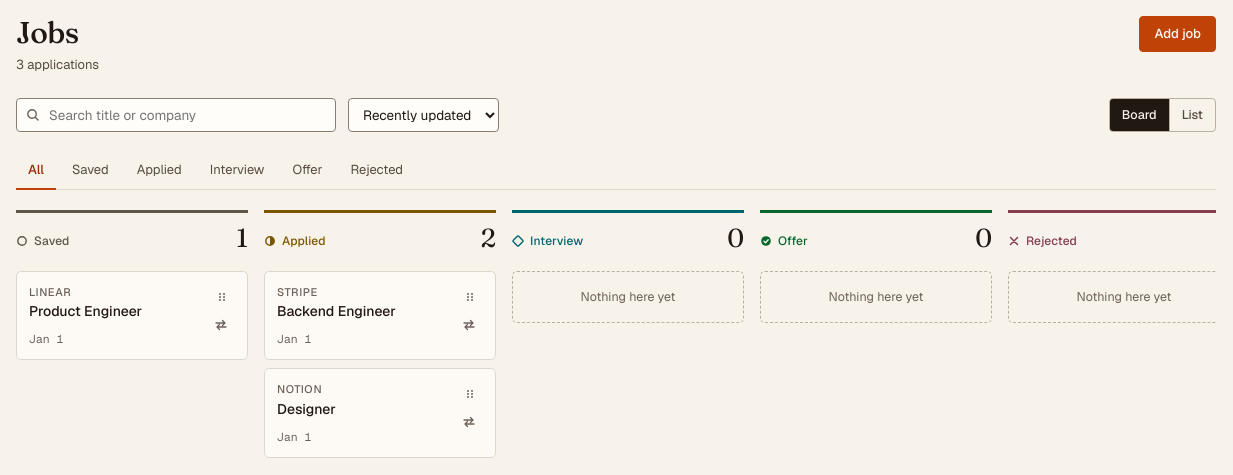
Test: DashboardPage › filters to one status column
The image size is (1233, 475).
Check: the text "Product Engineer" is shown, box x1=29 y1=302 x2=142 y2=320
Click the button "Applied" at [159, 171], box x1=125 y1=152 x2=194 y2=190
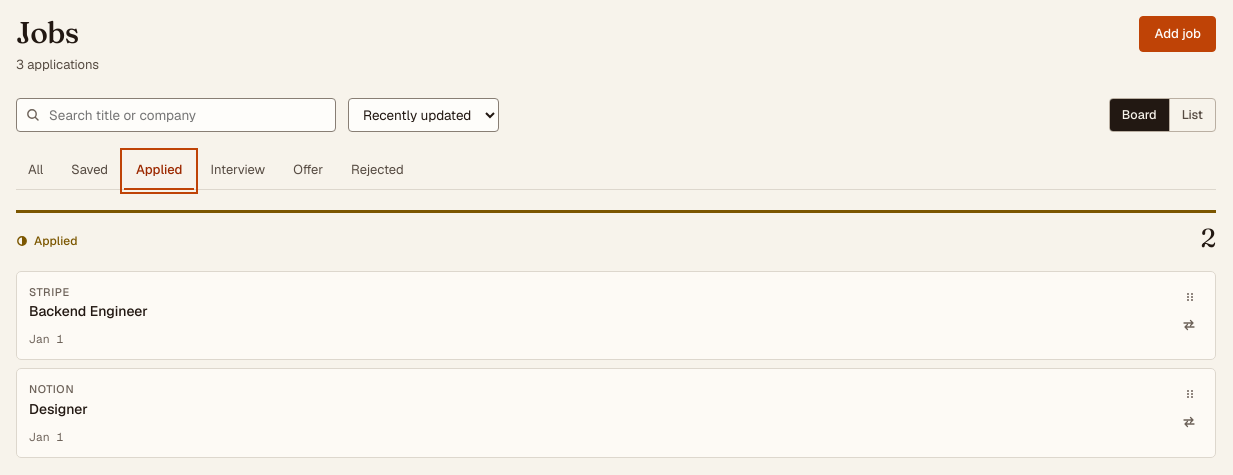
Check: the text "Backend Engineer" is shown, box x1=29 y1=302 x2=148 y2=320
Check: the link "Product Engineer" is gone
